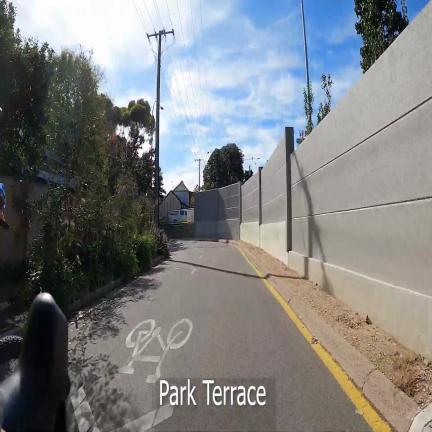Bike_Lane: (67, 241, 371, 432)
